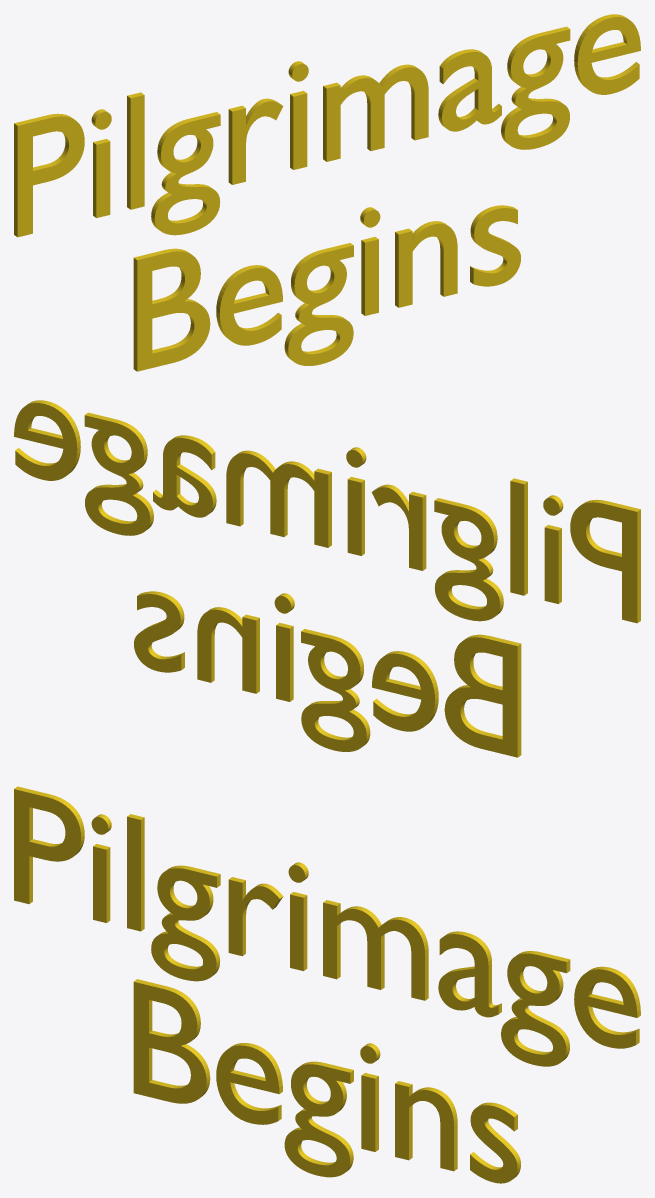
The picture shows the model from 3 angles, top to bottom: view 1: azimuth 30°, elevation 25°; view 2: azimuth 150°, elevation 25°; view 3: azimuth 330°, elevation 25°; orthographic projection.
Visible parts, largest first — view 1: Text; view 2: Text; view 3: Text.
Boxes of the visible parts, x1,y1,x2,y2 form: Text: (14,14,640,371); Text: (14,400,640,757); Text: (14,786,640,1183).
Size of the model in its own units: 3.99 by 1.91 by 0.04.
